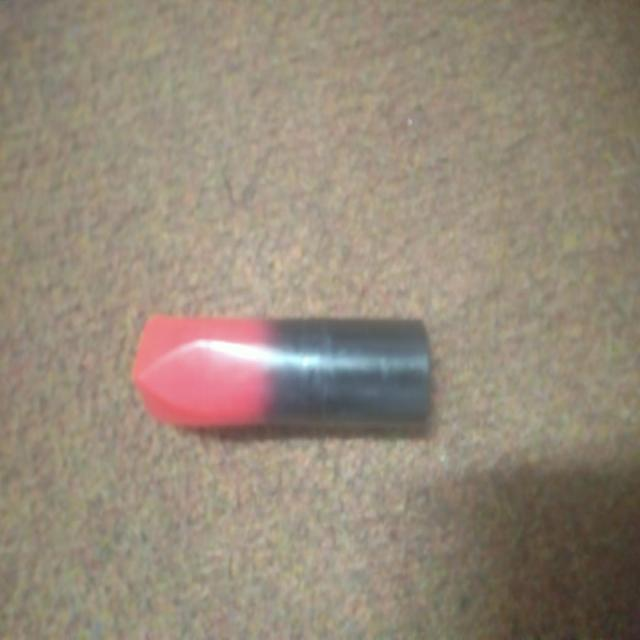lip gloss: (132, 296, 456, 454)
lip stick: (135, 293, 458, 448)
